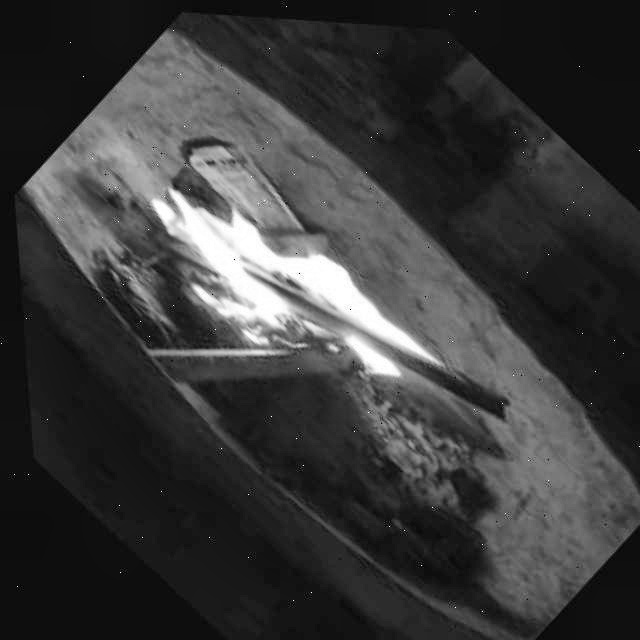Fire: (106, 118, 454, 456)
